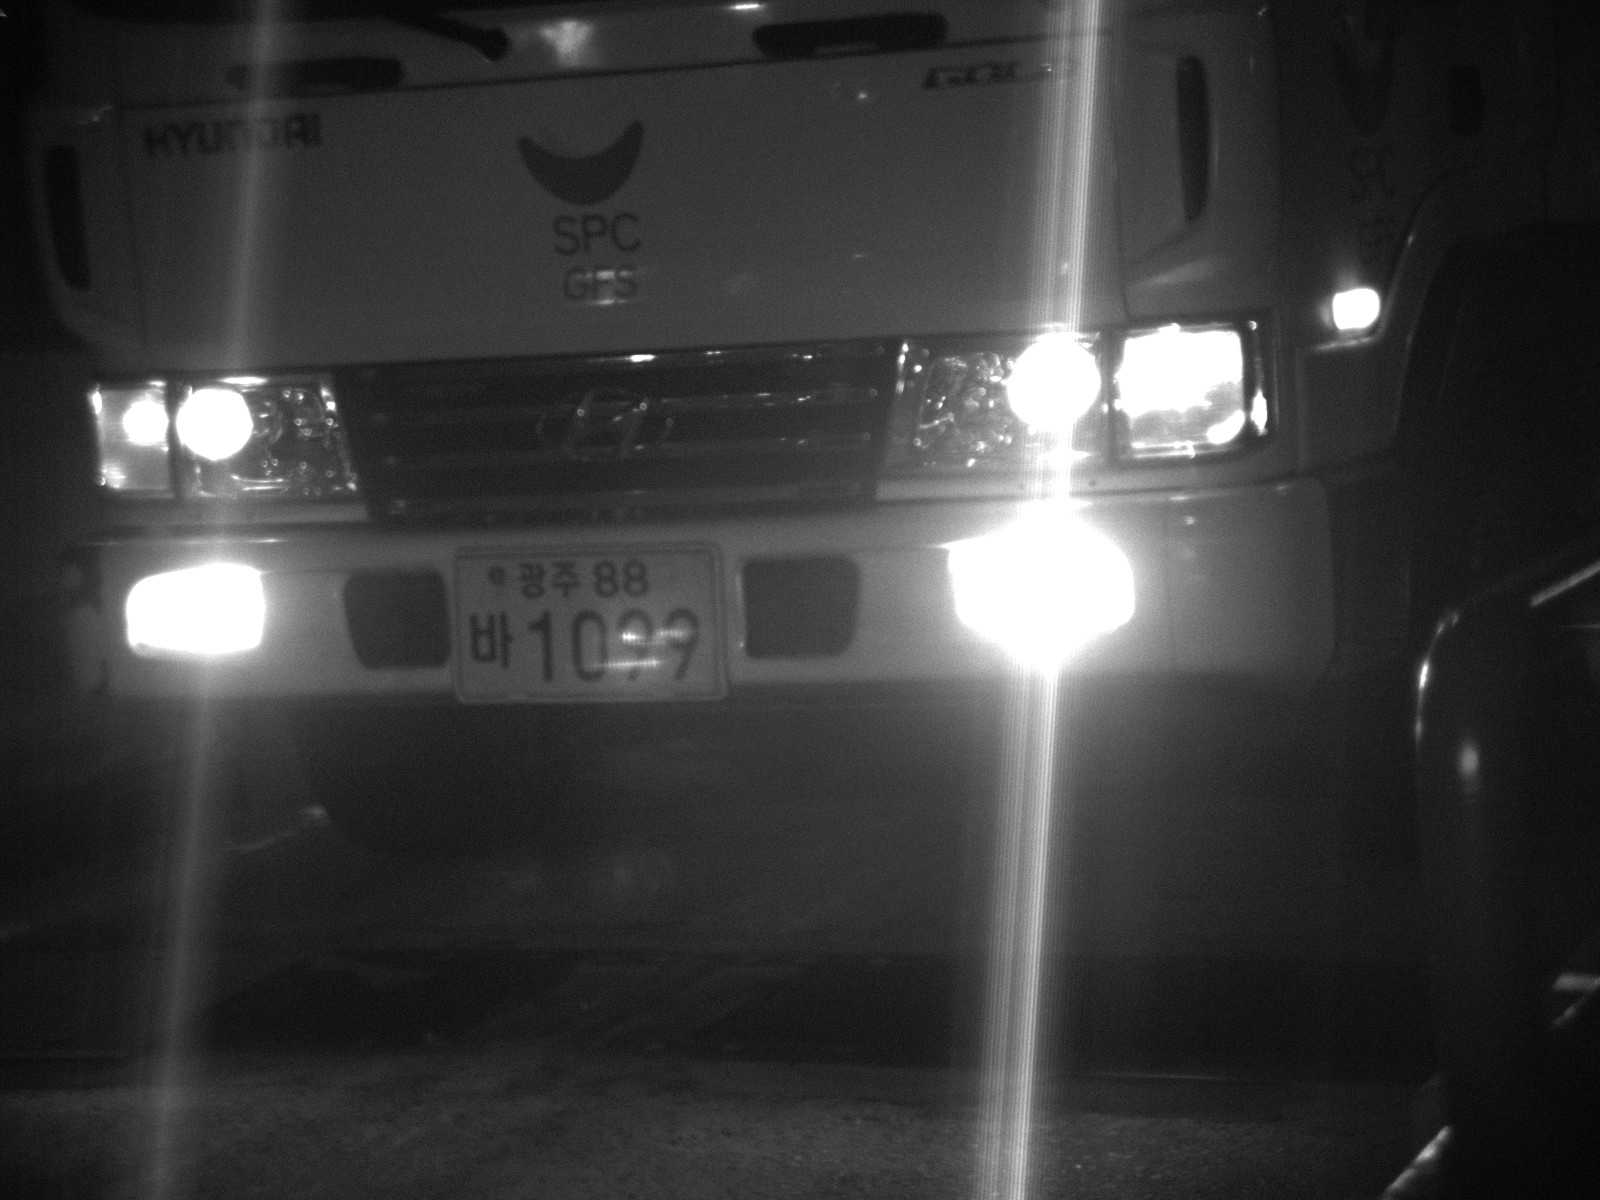car: (14, 1, 1598, 858)
plate: (445, 538, 745, 712)
